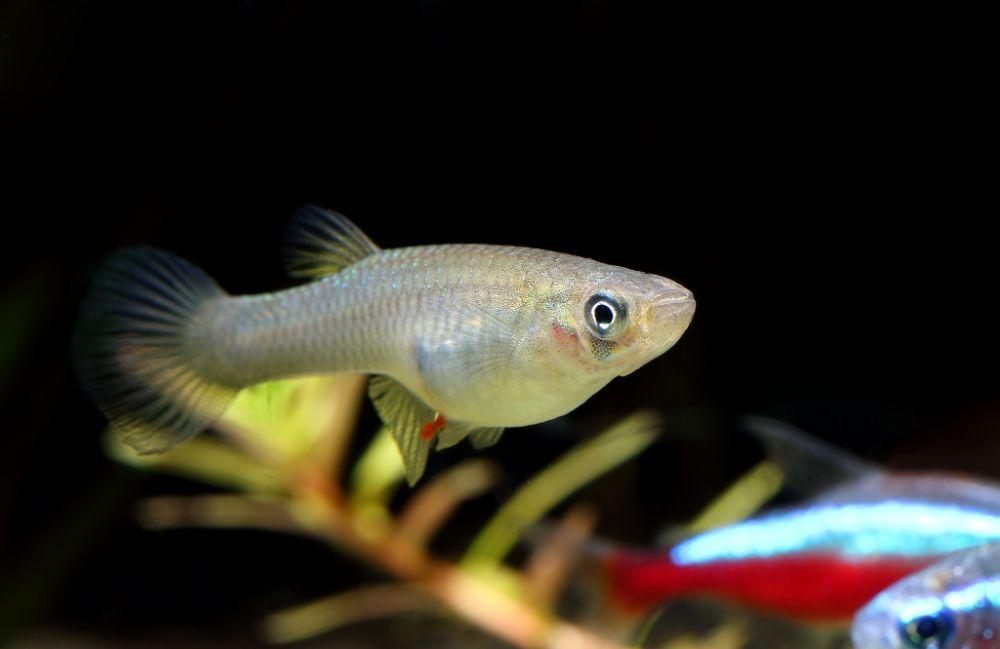Mosquito Fish: (82, 193, 695, 490)
